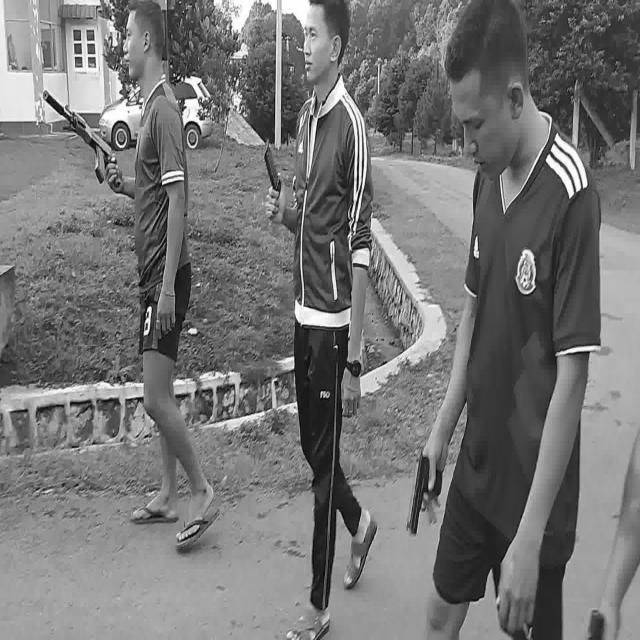gun: (42, 90, 122, 188), (407, 453, 442, 533)
